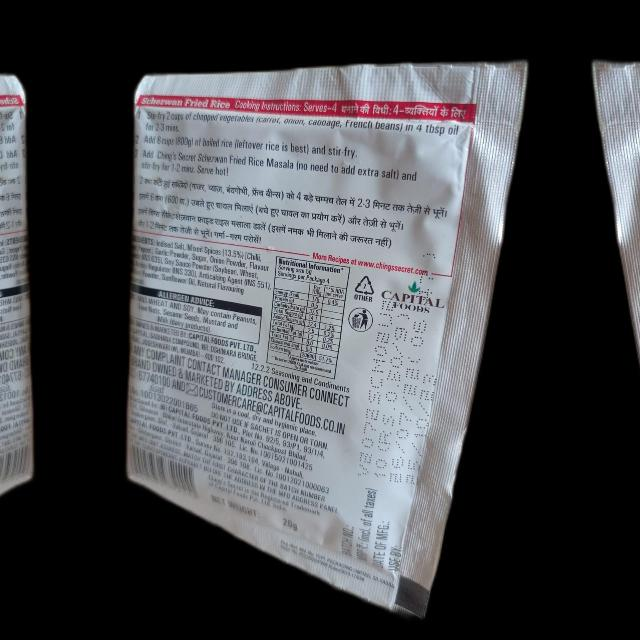Ching-s secret schezwan fried masala: (120, 69, 504, 617)
